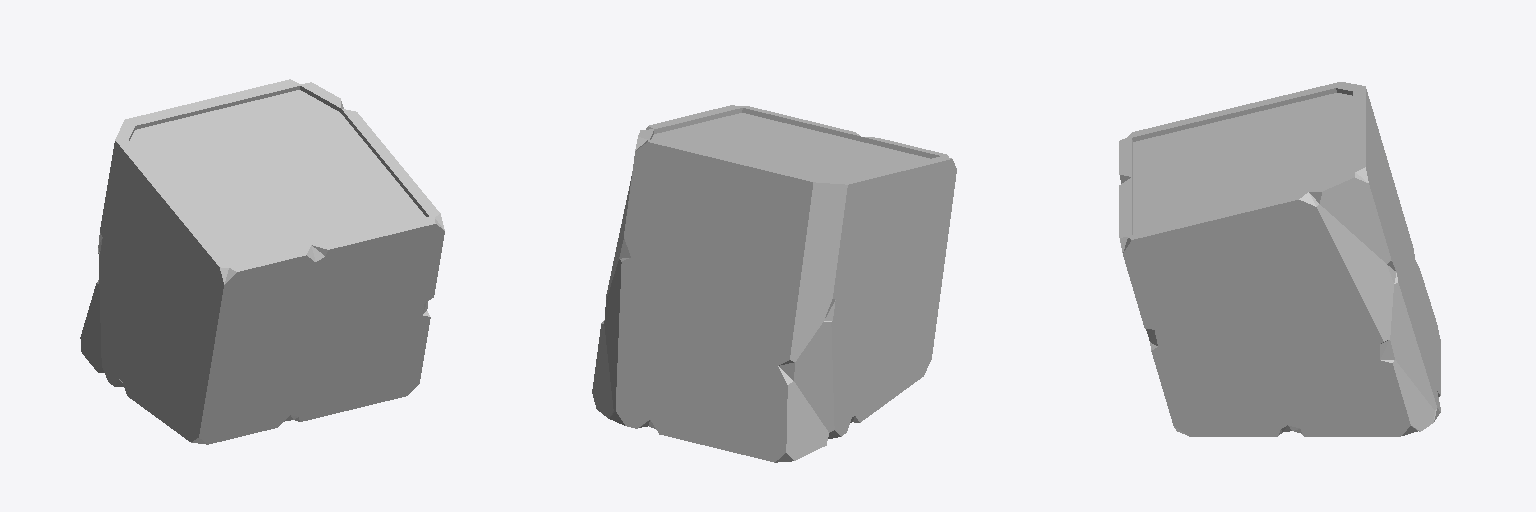
File: controlPannelBase.obj
3 renders of one model, left to right at view 1: azimuth 30°, elevation 25°; view 2: azimuth 150°, elevation 25°; view 3: azimuth 270°, elevation 25°, orthographic.
Visible parts, largest first — view 1: ControlPannelBaseMesh_Cube.001; view 2: ControlPannelBaseMesh_Cube.001; view 3: ControlPannelBaseMesh_Cube.001.
Boxes of the visible parts, x1,y1,x2,y2 form: ControlPannelBaseMesh_Cube.001: [80, 79, 444, 444]; ControlPannelBaseMesh_Cube.001: [592, 105, 956, 462]; ControlPannelBaseMesh_Cube.001: [1119, 82, 1440, 436].
Bounding box in the file's own units: 1 × 1.1 × 1.26.